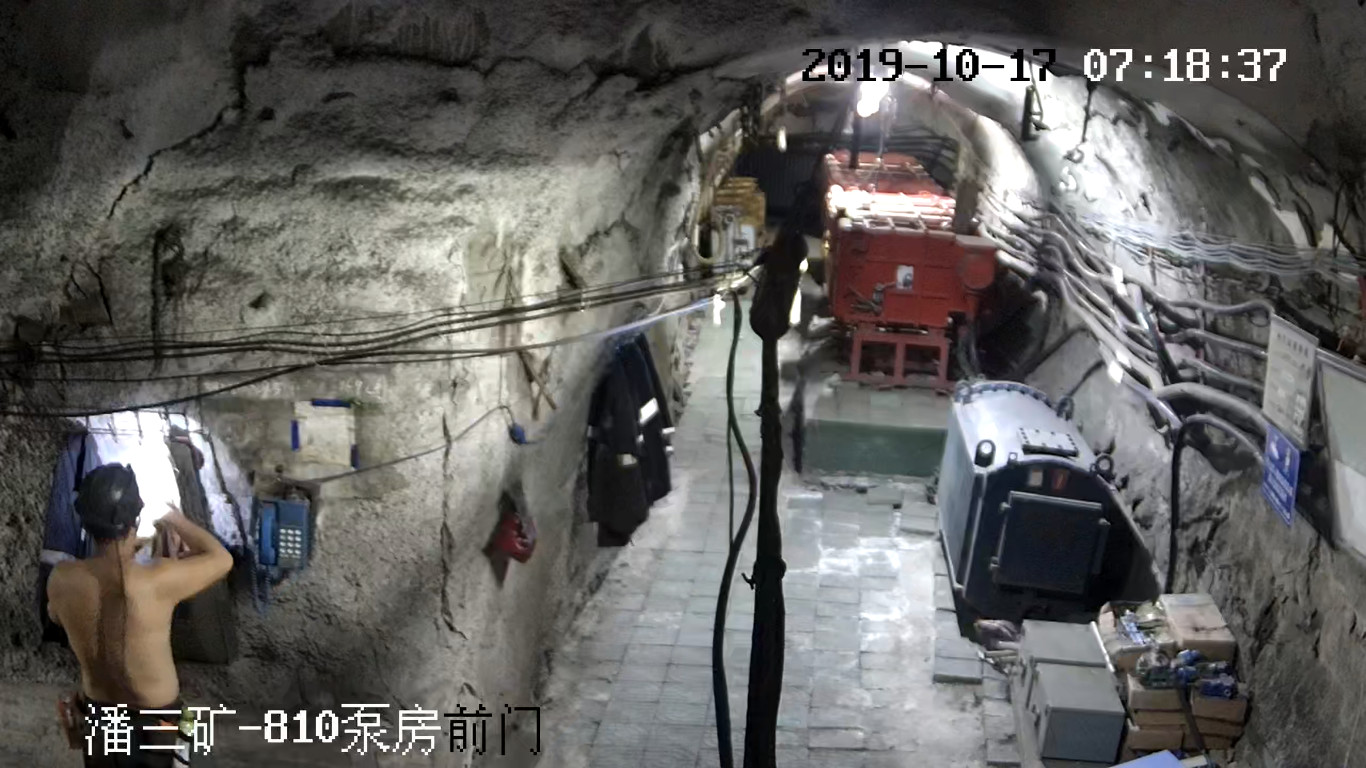helmet: (73, 461, 145, 528)
